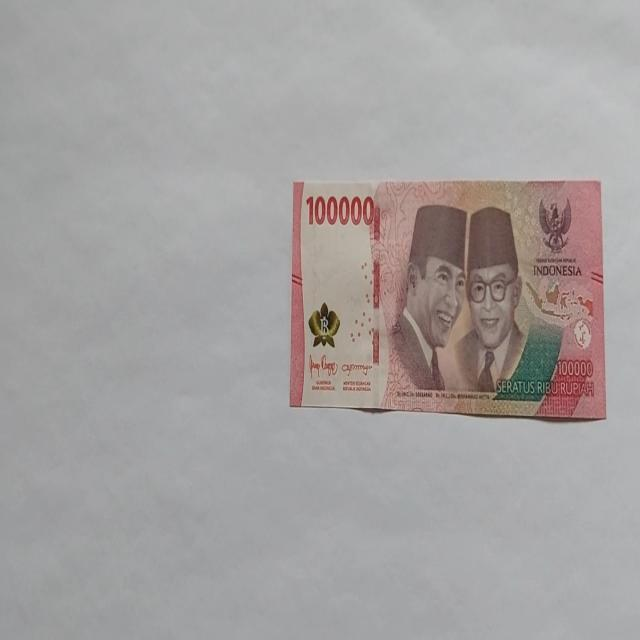seratus ribu rupiah: (289, 176, 606, 420)
